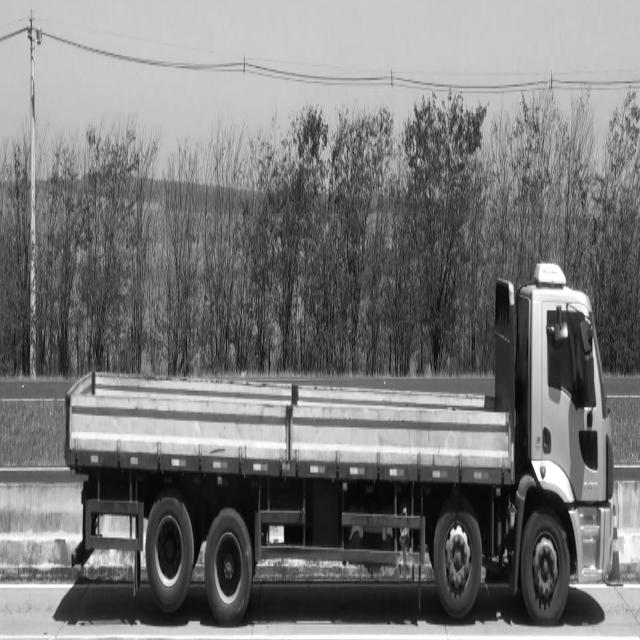Pole: (29, 10, 36, 379)
Truck: (65, 263, 614, 627)
